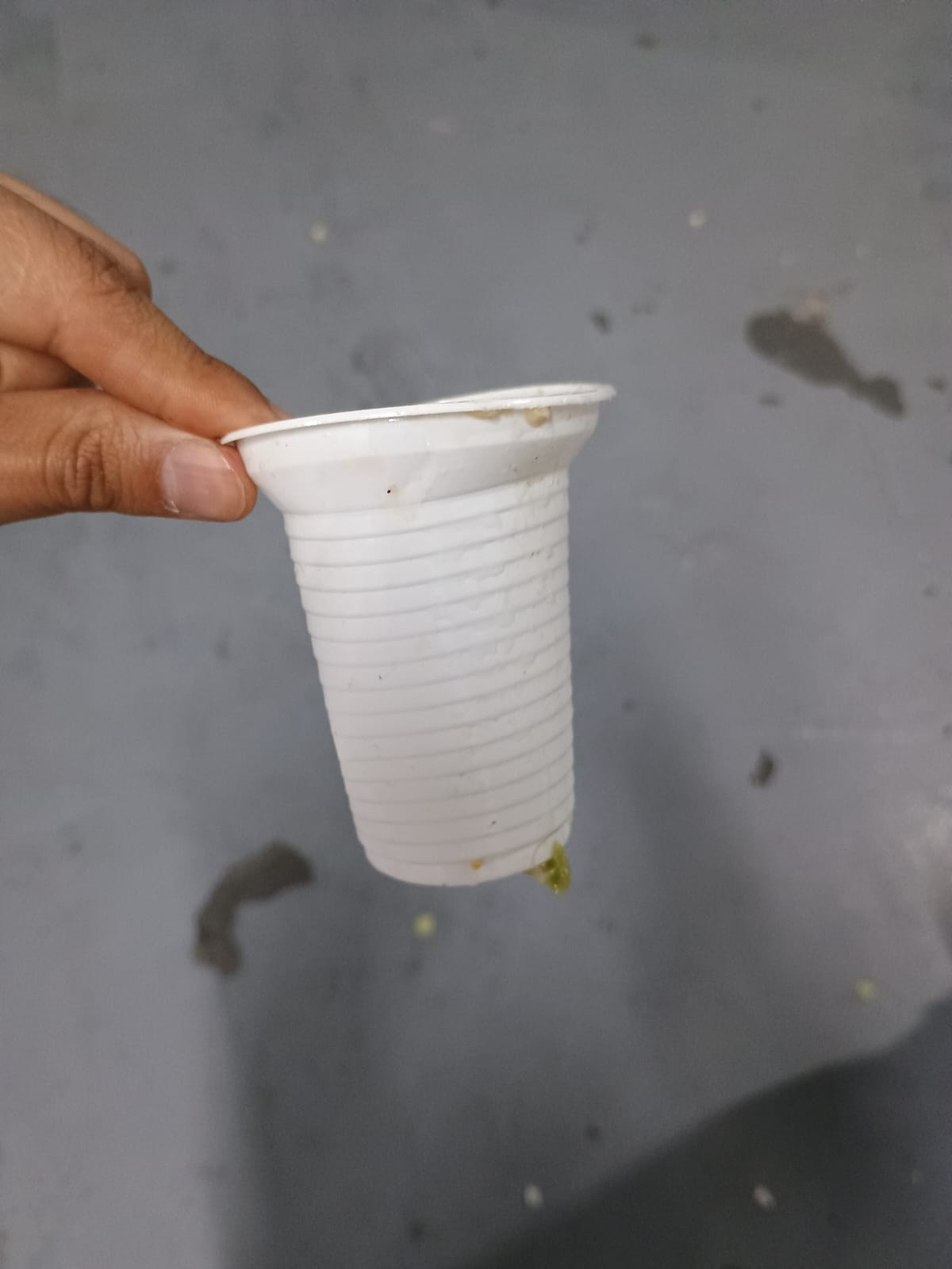Plastico: (223, 384, 621, 885)
